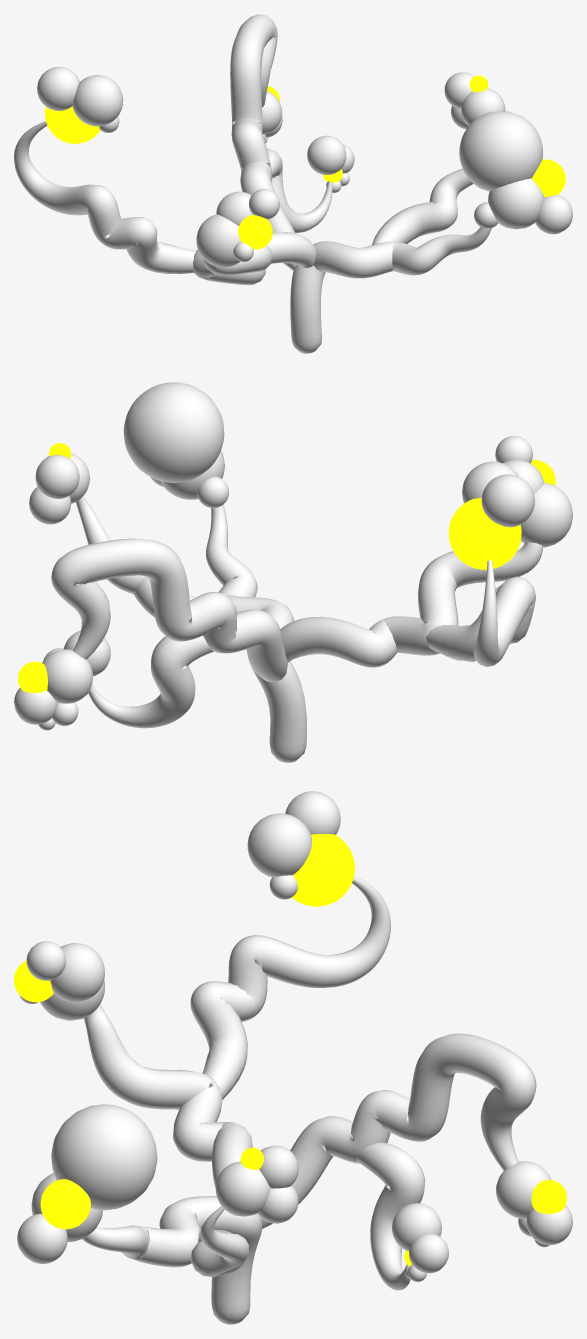
File: tree_9.glb
3 views of the same model, one above another, from view 1: azimuth 30°, elevation 25°; view 2: azimuth 150°, elevation 25°; view 3: azimuth 270°, elevation 25° (orthographic). The views are drawn at different scales.
Parts seen in each view (by area): view 1: s.0172; view 2: s.0172; view 3: s.0172.
Part boxes in pixels (bbox=[...]): s.0172: bbox=[14, 14, 572, 353]; s.0172: bbox=[14, 382, 572, 762]; s.0172: bbox=[14, 791, 572, 1324].
Bounding box in the file's own units: 3.51 × 2.41 × 3.08.
